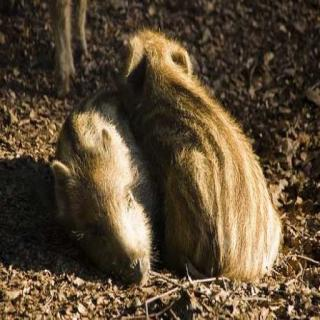Pig: (90, 21, 320, 298)
